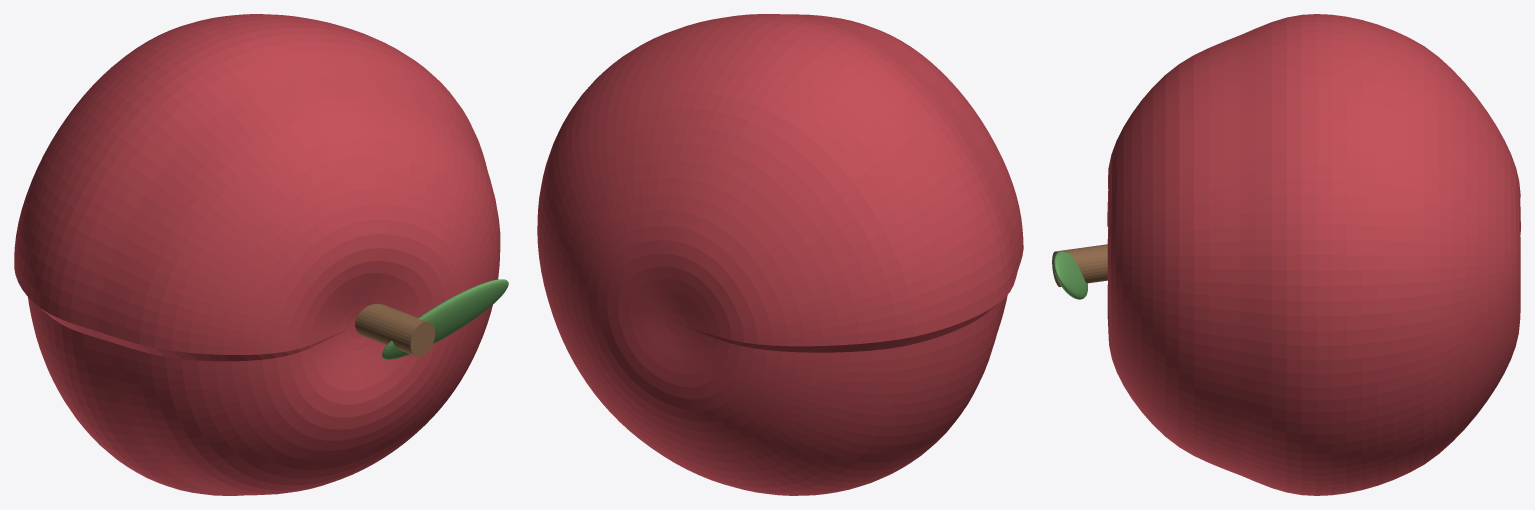
File: apple.glb
3 renders of one model, left to right at view 1: azimuth 30°, elevation 25°; view 2: azimuth 150°, elevation 25°; view 3: azimuth 270°, elevation 25°, orthographic.
Parts seen in each view (by area): view 1: apple_body, stem, leaf; view 2: apple_body; view 3: apple_body, stem, leaf.
Part boxes in pixels (box(x1,y1,x2,y2)): apple_body: box(14, 14, 500, 495); stem: box(355, 303, 435, 356); leaf: box(382, 279, 508, 359); apple_body: box(537, 14, 1023, 495); apple_body: box(1107, 14, 1520, 495); stem: box(1052, 244, 1107, 286); leaf: box(1053, 251, 1087, 299).
Bounding box in the file's own units: 2.31 × 2.28 × 2.2.
